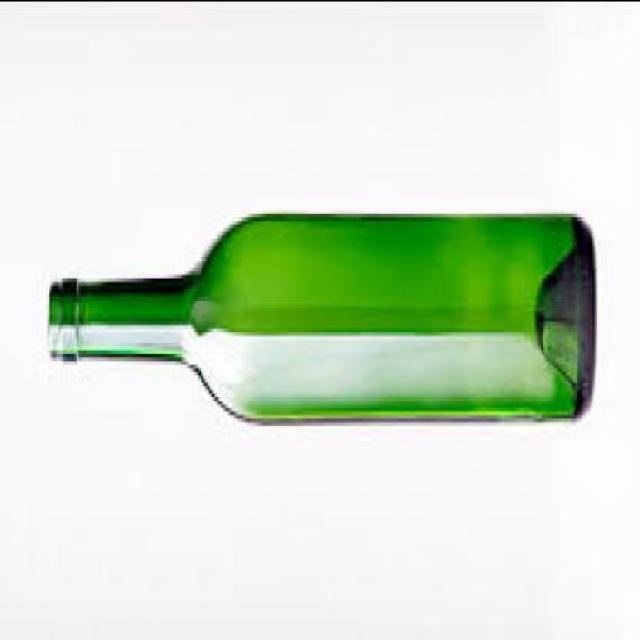GLASS: (48, 219, 592, 424)
